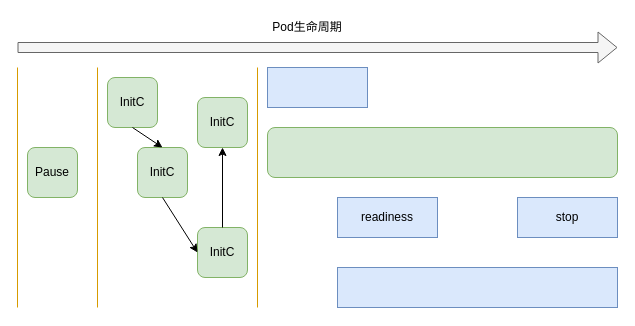
The diagram is 635 pixels wide and 326 high, and some of its shapes have lost their labels. The box of each missing label's shape, as (x1, y1, x2, y2) in pixels:
liveness: (336, 266, 618, 308)
MainContainer: (266, 126, 618, 178)
start: (266, 66, 368, 108)
